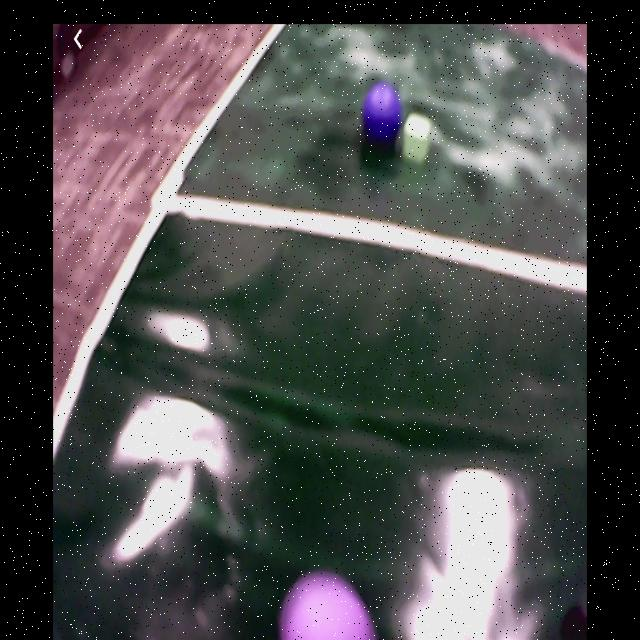ball: (278, 574, 372, 640), (362, 82, 401, 146)
